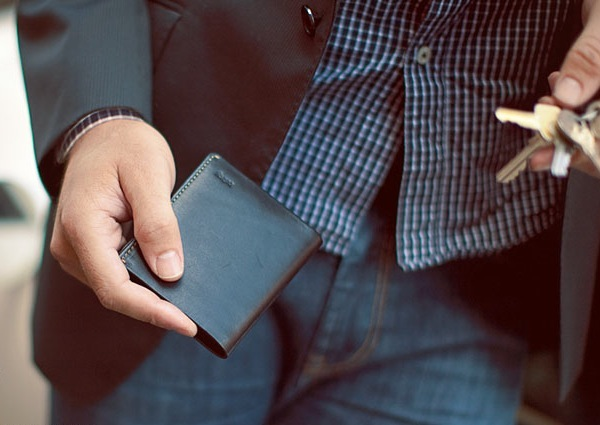monedero: (117, 150, 324, 361)
